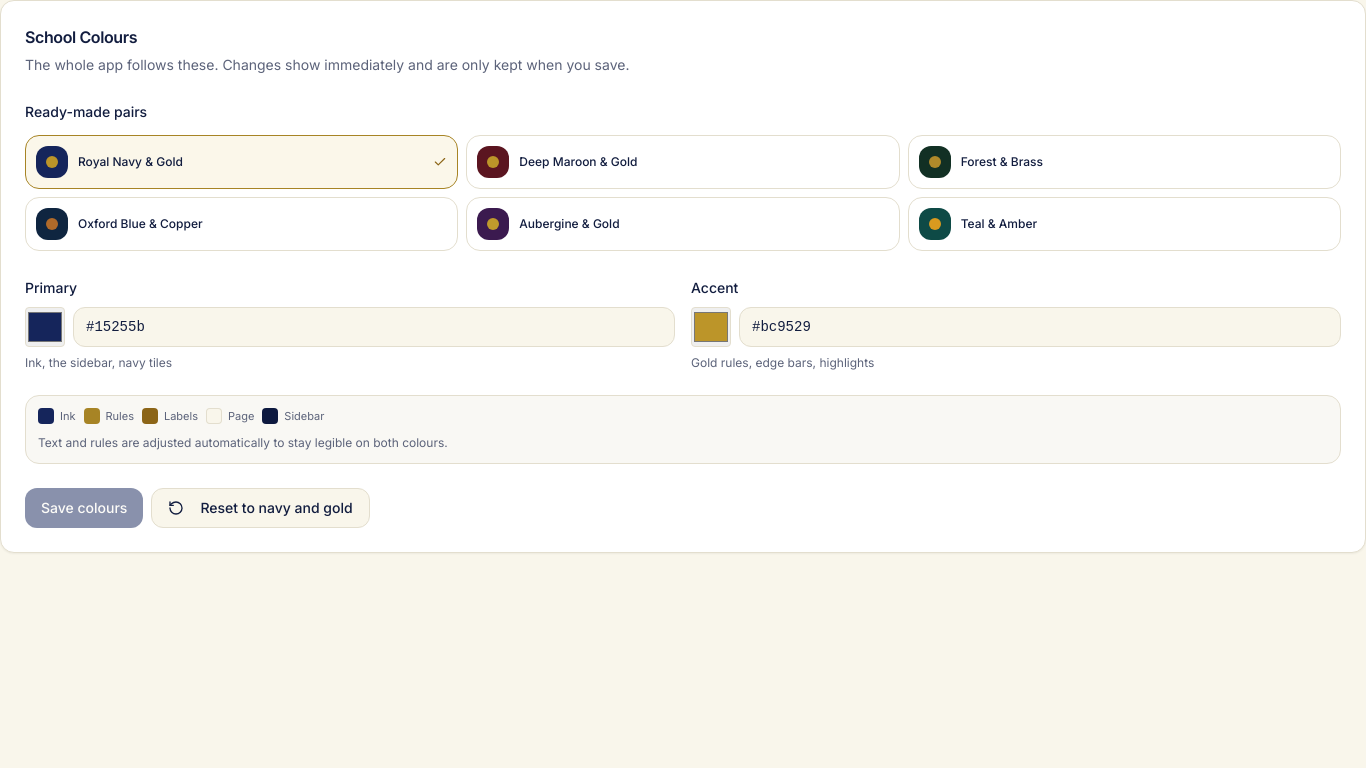
Scenario: BrandColorsCard › will not save until something has changed
Expected: the button "Save colours" is disabled, x1=25 y1=488 x2=143 y2=528
What coordinates should you click on to do the following:
click the button "Deep Maroon & Gold"
I would click on:
 (493, 162)
Its box is x1=466 y1=135 x2=900 y2=189.
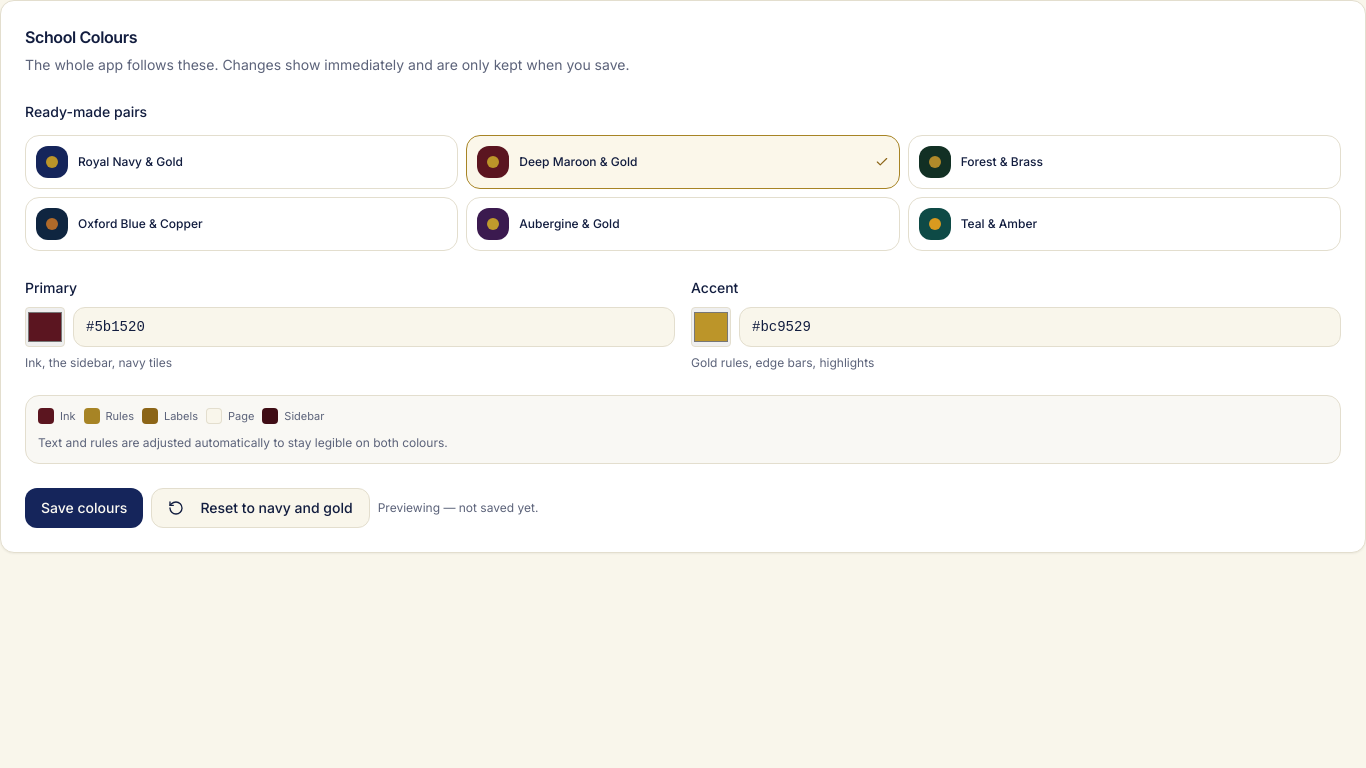
Result: the button "Save colours" is enabled at x1=25 y1=488 x2=143 y2=528
